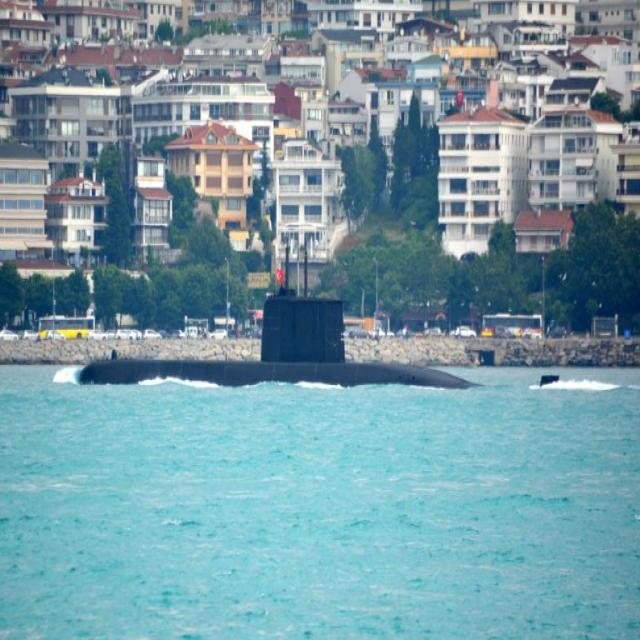submarine: (81, 245, 568, 390)
